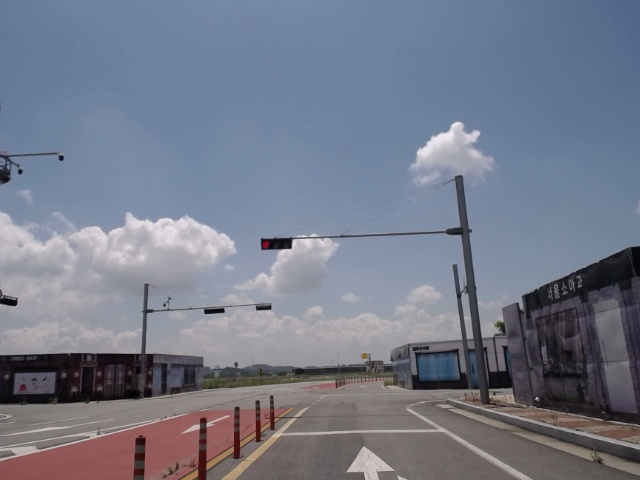red_3: (259, 238, 293, 251)
